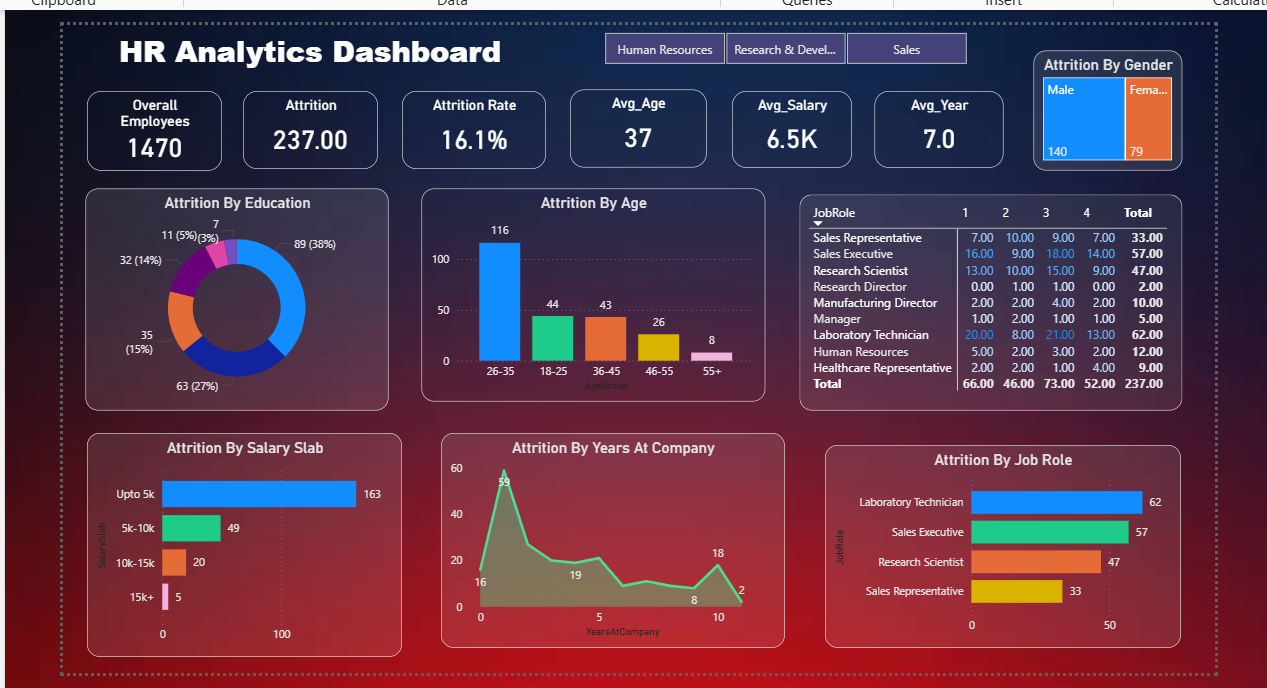

This screenshot's page, from the dashboard's own definition file:
{"tool":"powerbi","page":{"name":"Page 1","canvas":[1280,720],"ordinal":0},"visuals":[{"type":"card","title":"Overall Employees","fields":{"Values":["CountNonNull(HR_Analytics.EmpID)"]},"box":[26.7,73.3,150,88.3],"z":0},{"type":"card","title":"Attrition","fields":{"Values":["Sum(HR_Analytics.AtteritionCount)"]},"box":[200,73.3,150,86.7],"z":1000},{"type":"card","title":"Avg_Age","fields":{"Values":["Avg(HR_Analytics.Age)"]},"box":[563.3,71.7,151.7,86.7],"z":2000},{"type":"card","title":"Avg_Salary","fields":{"Values":["Avg(HR_Analytics.MonthlyIncome)"]},"box":[743.3,73.3,133.3,85],"z":3000},{"type":"card","title":"Avg_Year","fields":{"Values":["Avg(HR_Analytics.YearsAtCompany)"]},"box":[901.7,73.3,143.3,85],"z":4000},{"type":"donutChart","title":"Attrition By Education","fields":{"Category":["HR_Analytics.EducationField"],"Y":["Sum(HR_Analytics.AtteritionCount)"]},"box":[25,181.7,336.7,246.7],"z":5000},{"type":"columnChart","title":"Attrition By Age","fields":{"Category":["HR_Analytics.AgeGroup"],"Y":["Sum(HR_Analytics.AtteritionCount)"]},"box":[398.3,181.7,381.7,236.7],"z":6000},{"type":"pivotTable","fields":{"Rows":["HR_Analytics.JobRole"],"Columns":["HR_Analytics.JobSatisfaction"],"Values":["Sum(HR_Analytics.AtteritionCount)"]},"box":[818.3,188.3,425,240],"z":7000},{"type":"barChart","title":"Attrition By Salary Slab","fields":{"Category":["HR_Analytics.SalarySlab"],"Y":["Sum(HR_Analytics.AtteritionCount)"]},"box":[26.7,453.3,350,248.3],"z":8000},{"type":"barChart","title":"Attrition By Job Role","fields":{"Category":["HR_Analytics.JobRole"],"Y":["Sum(HR_Analytics.AtteritionCount)"]},"box":[846.7,466.7,395,225],"z":9000},{"type":"areaChart","title":"Attrition By Years At Company","fields":{"Category":["HR_Analytics.YearsAtCompany"],"Y":["Sum(HR_Analytics.AtteritionCount)"]},"box":[420,453.3,381.7,238.3],"z":10000},{"type":"treemap","title":"Attrition By Gender","fields":{"Group":["HR_Analytics.Gender"],"Values":["Sum(HR_Analytics.AtteritionCount)"]},"box":[1078.3,28.3,165,133.3],"z":11000},{"type":"slicer","fields":{"Values":["HR_Analytics.Department"]},"box":[576,1,451.1,55.6],"z":12000},{"type":"textbox","box":[0,0,548.9,55.6],"z":13000},{"type":"card","title":"Attrition Rate","fields":{"Values":["HR_Analytics.AttritionRate"]},"box":[376.7,73.3,160,86.7],"z":14000}]}

Visuals, with their boxes on the page's 1280x720 design canvas (x1, y1, x2, y2). These are canvas units, not pixel positions in the 1267x688 screenshot, which may show the page scaled, cropped or inside an application window:
"Overall Employees" card: 27/73/177/162
"Attrition" card: 200/73/350/160
"Avg_Age" card: 563/72/715/158
"Avg_Salary" card: 743/73/877/158
"Avg_Year" card: 902/73/1045/158
"Attrition By Education" donutChart: 25/182/362/428
"Attrition By Age" columnChart: 398/182/780/418
pivotTable - HR_Analytics.JobRole x HR_Analytics.JobSatisfaction: 818/188/1243/428
"Attrition By Salary Slab" barChart: 27/453/377/702
"Attrition By Job Role" barChart: 847/467/1242/692
"Attrition By Years At Company" areaChart: 420/453/802/692
"Attrition By Gender" treemap: 1078/28/1243/162
slicer - HR_Analytics.Department: 576/1/1027/57
textbox: 0/0/549/56
"Attrition Rate" card: 377/73/537/160
